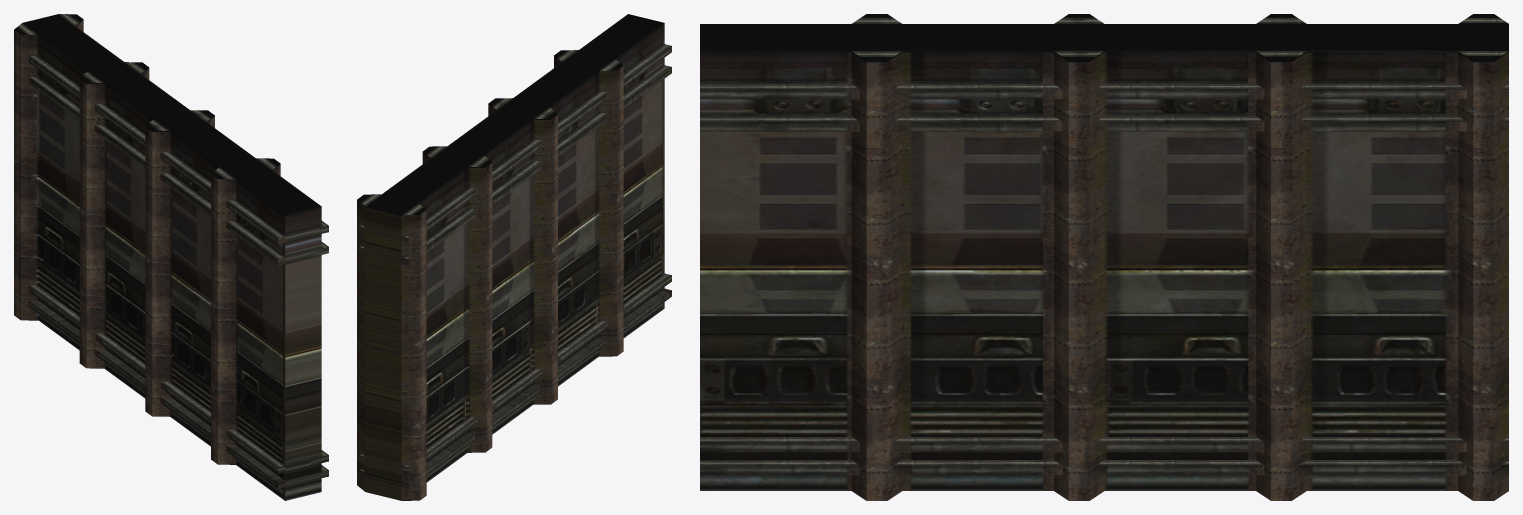
The model's file is muro_texture 1.fbx.
The picture shows the model from 3 angles, left to right: view 1: azimuth 30°, elevation 25°; view 2: azimuth 150°, elevation 25°; view 3: azimuth 270°, elevation 25°; orthographic projection. The views are drawn at different scales.
Parts seen in each view (by area): view 1: polySurface3; view 2: polySurface3; view 3: polySurface3.
Boxes of the visible parts, x1,y1,x2,y2 form: polySurface3: (14, 14, 328, 500); polySurface3: (357, 14, 671, 500); polySurface3: (700, 14, 1508, 500).
Size of the model in its own units: 1.38 by 6 by 10.
